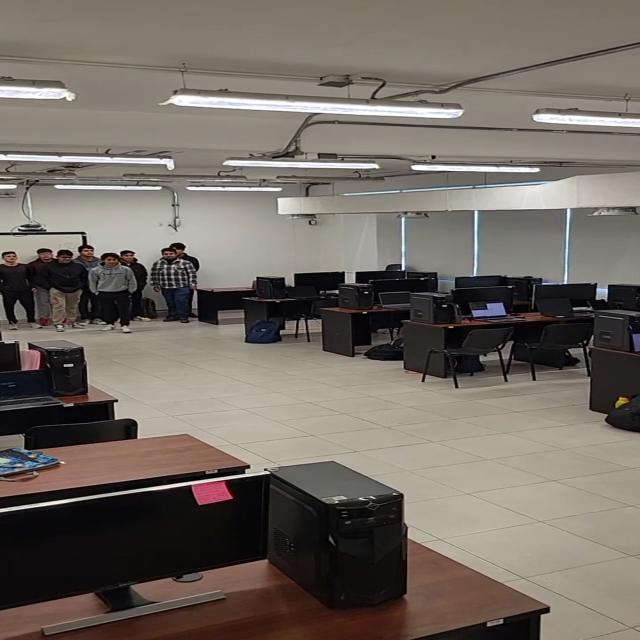Persona: (86, 250, 140, 334), (149, 247, 200, 324), (45, 248, 91, 332), (0, 250, 46, 332), (29, 248, 67, 331), (116, 248, 154, 326), (160, 242, 206, 269), (74, 245, 103, 273)
